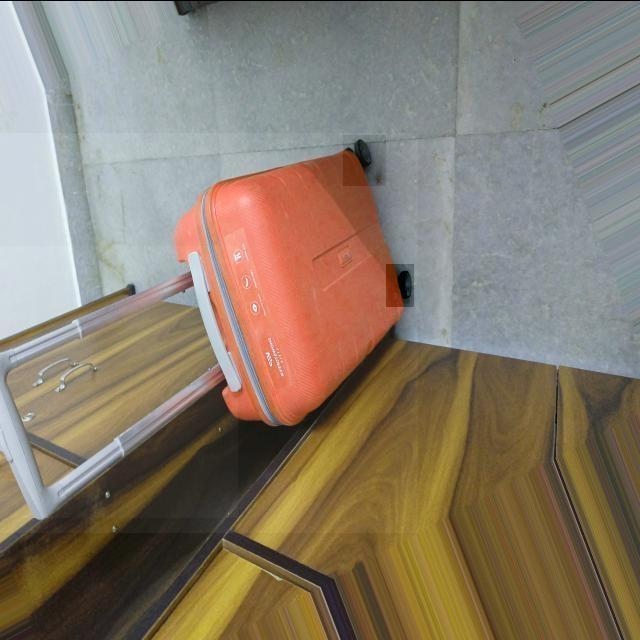Suitcase: (0, 137, 412, 538)
